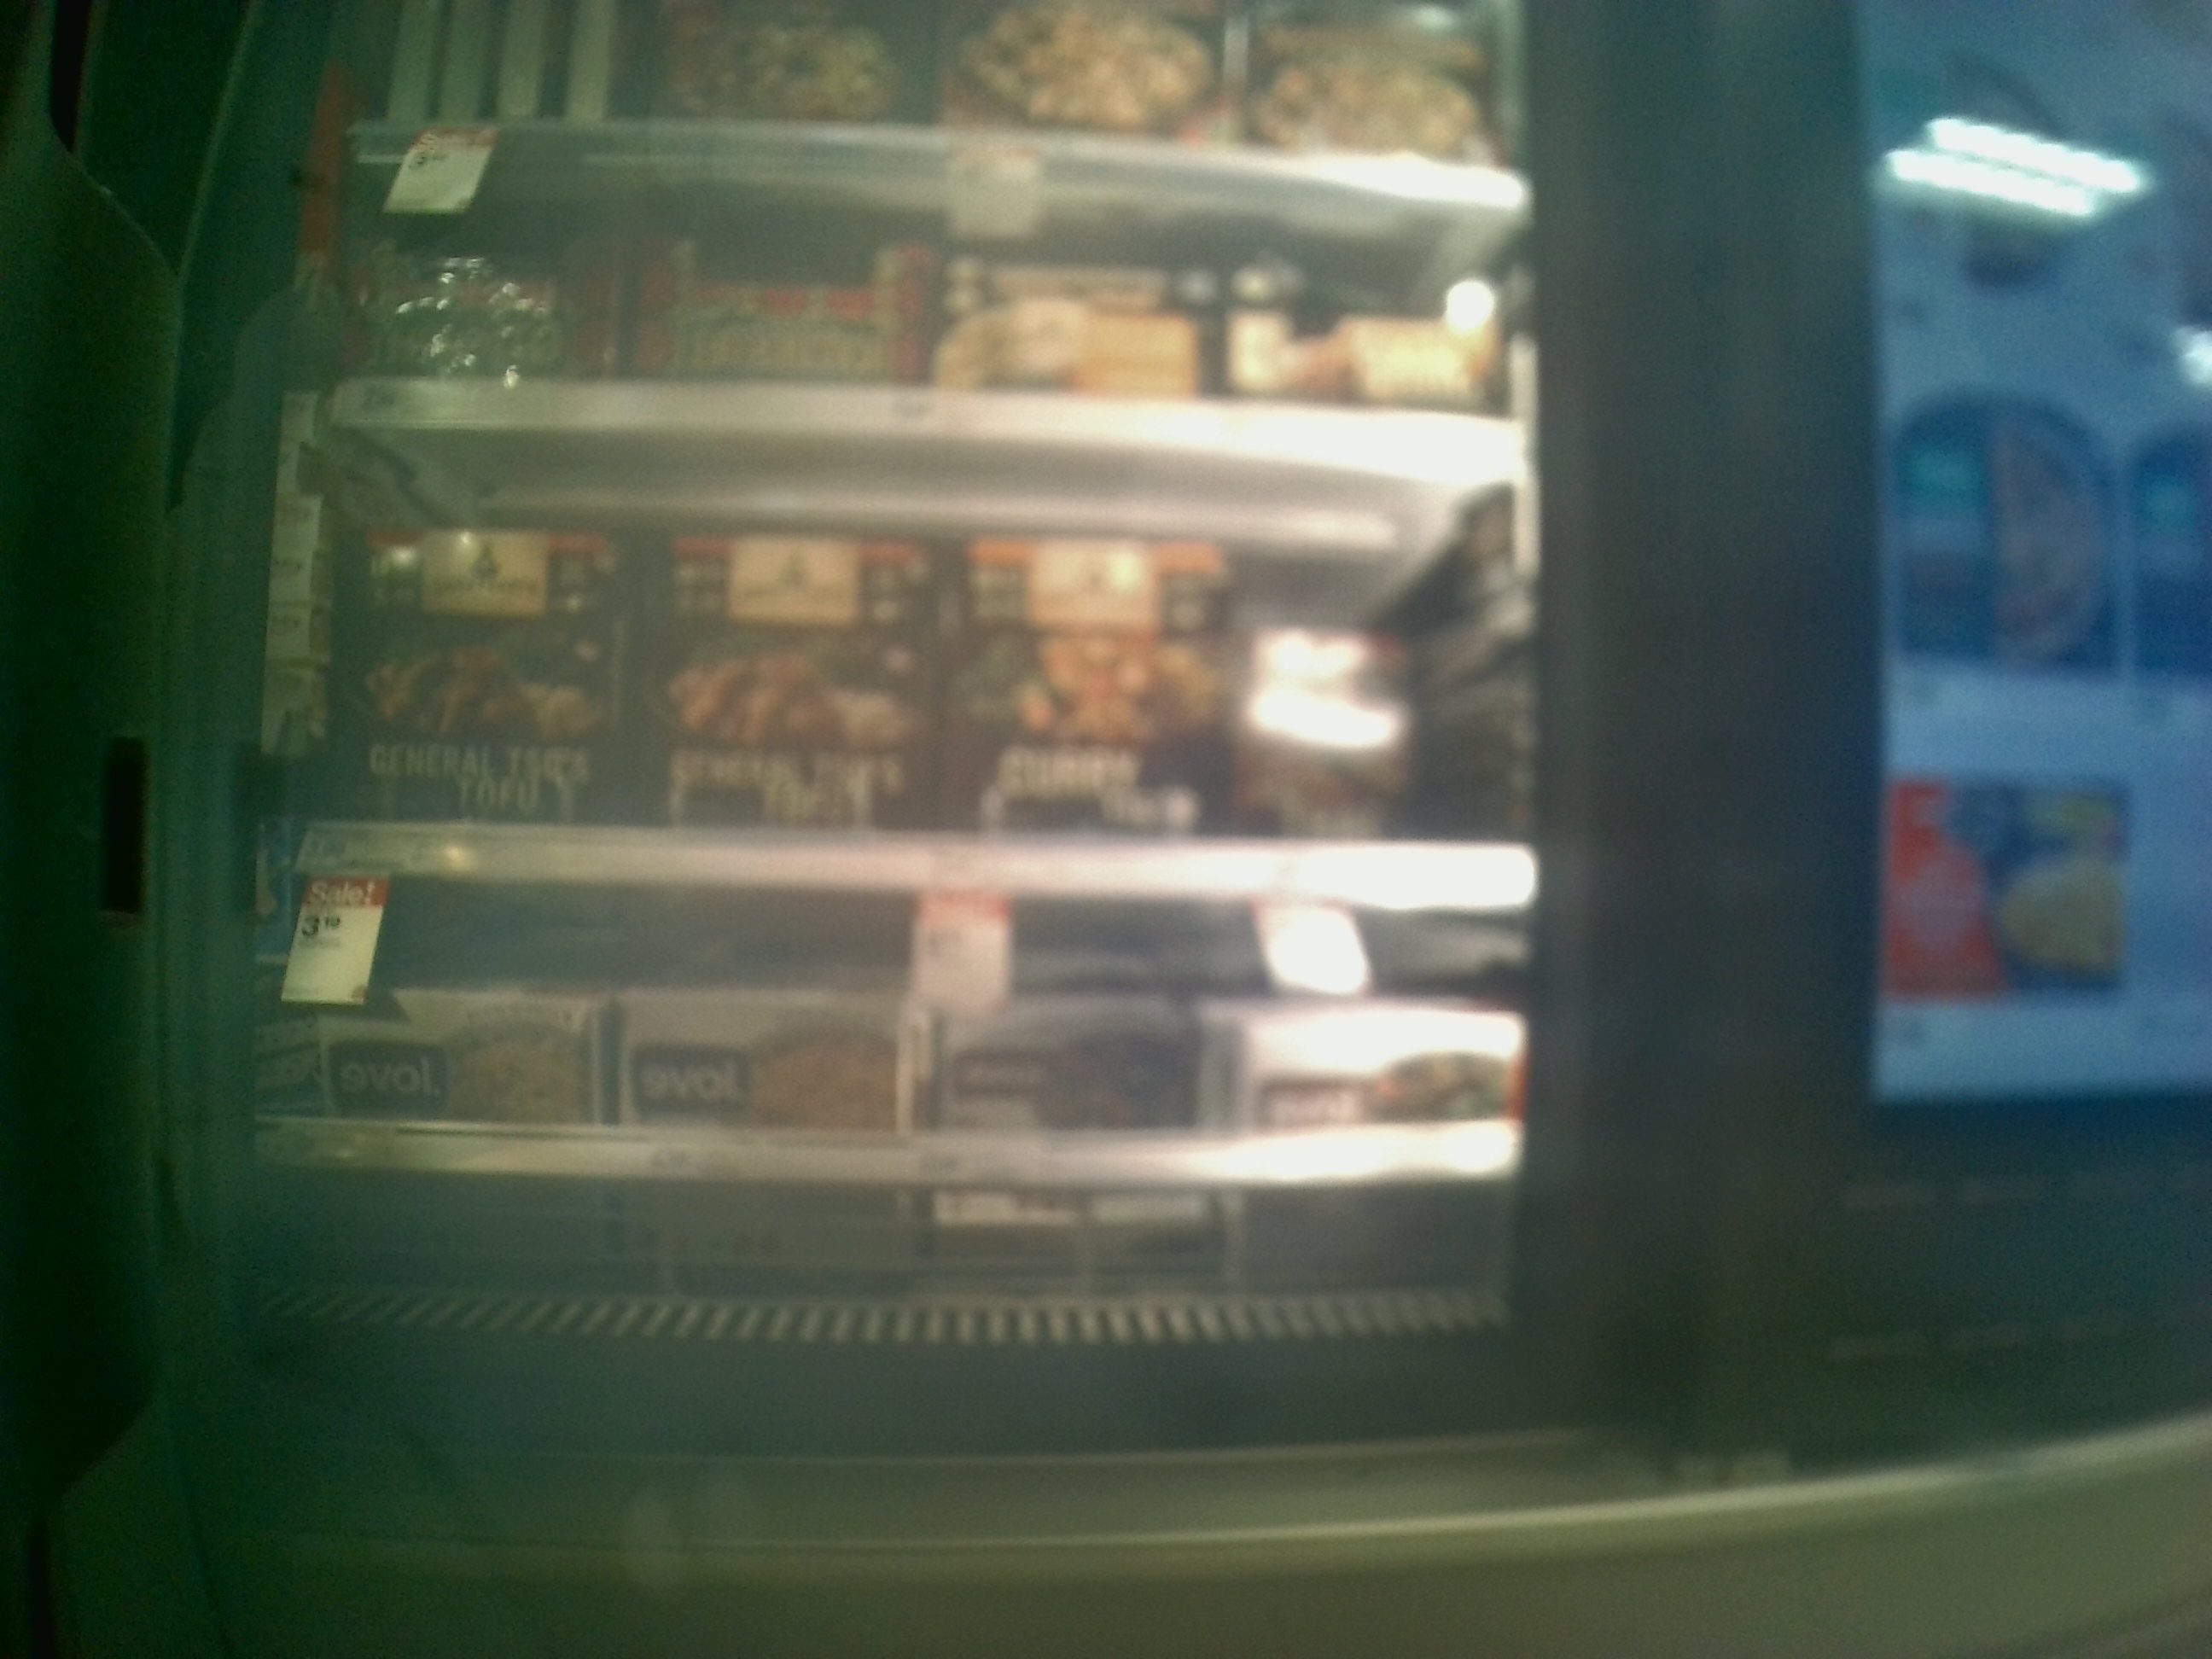frozen-food-shelf: (280, 500, 1548, 910), (268, 915, 1564, 1188)
